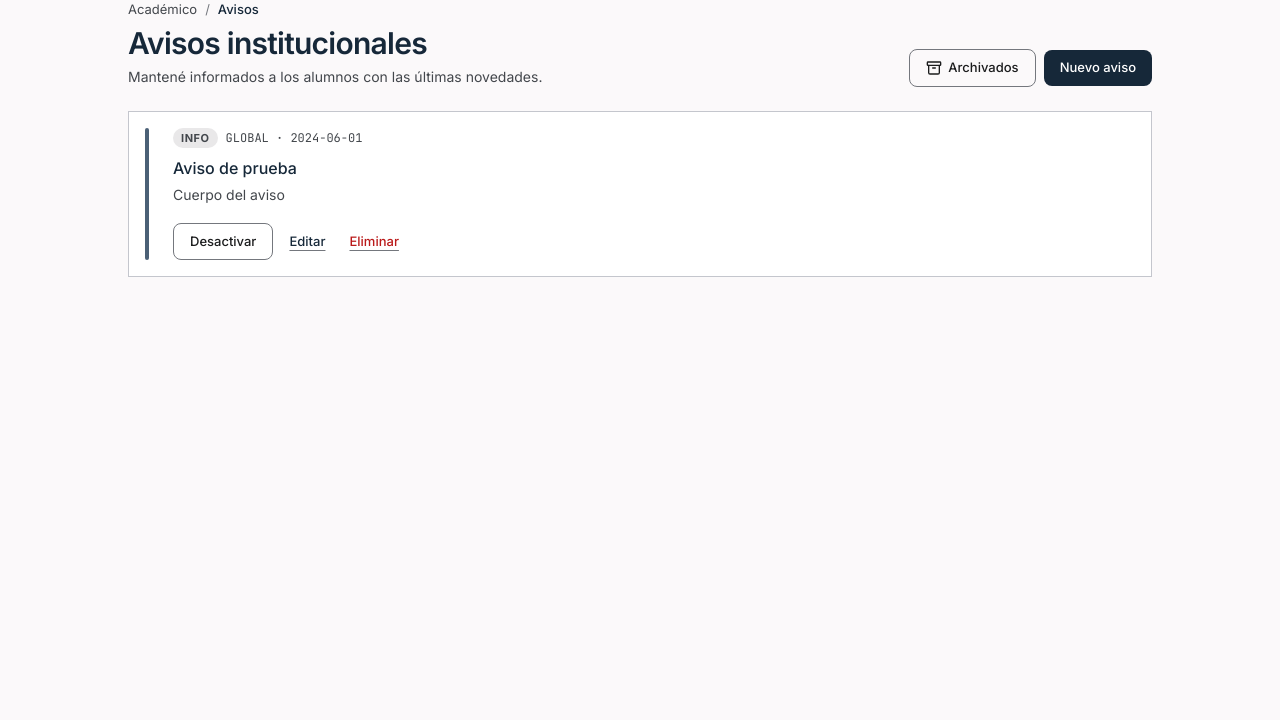
Scenario: AvisosPage › valida título vacío al crear aviso
Expected: the heading "Aviso de prueba" is shown, x1=173 y1=158 x2=297 y2=178
Click the button "Nuevo aviso" at (1098, 68), box x1=1044 y1=50 x2=1152 y2=86
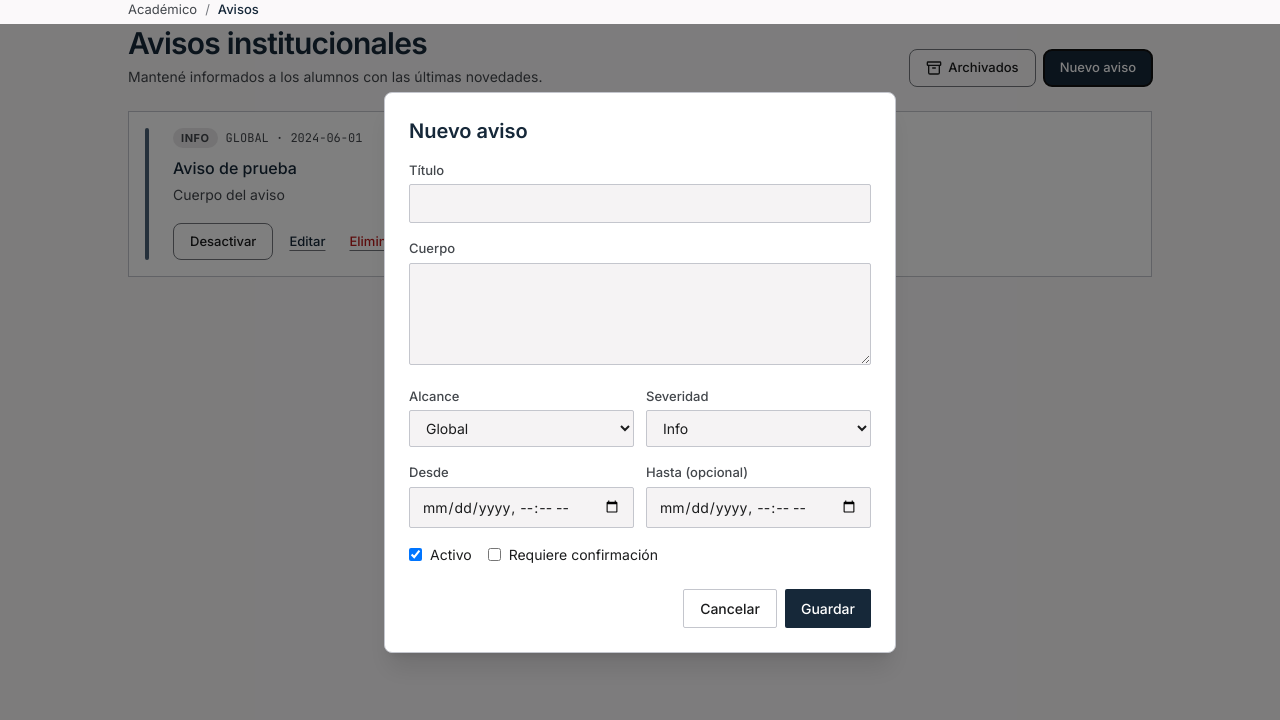
Click the button "Guardar" at (828, 608), box x1=785 y1=588 x2=871 y2=628
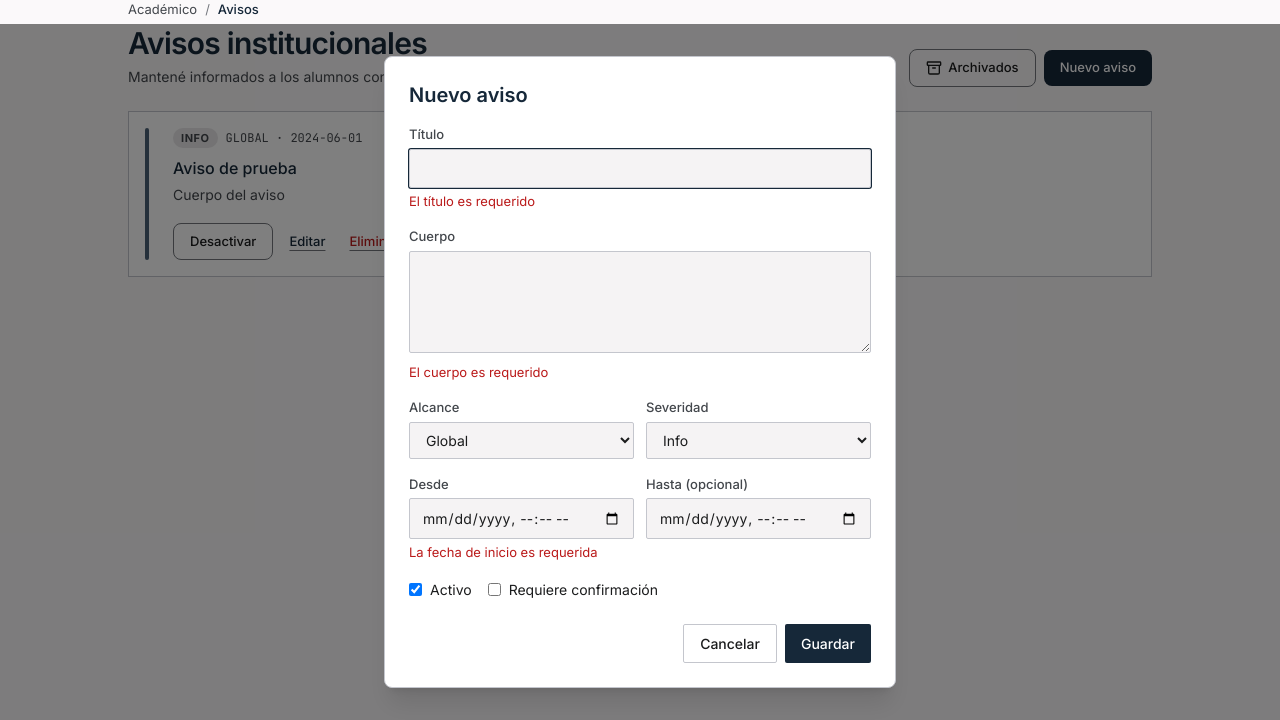
Result: the message "El título es requerido" is shown at x1=409 y1=193 x2=535 y2=209
